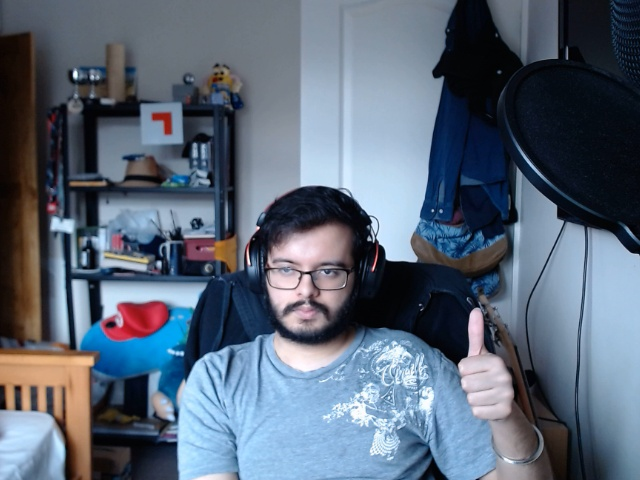Thumbs up: (455, 297, 522, 426)
